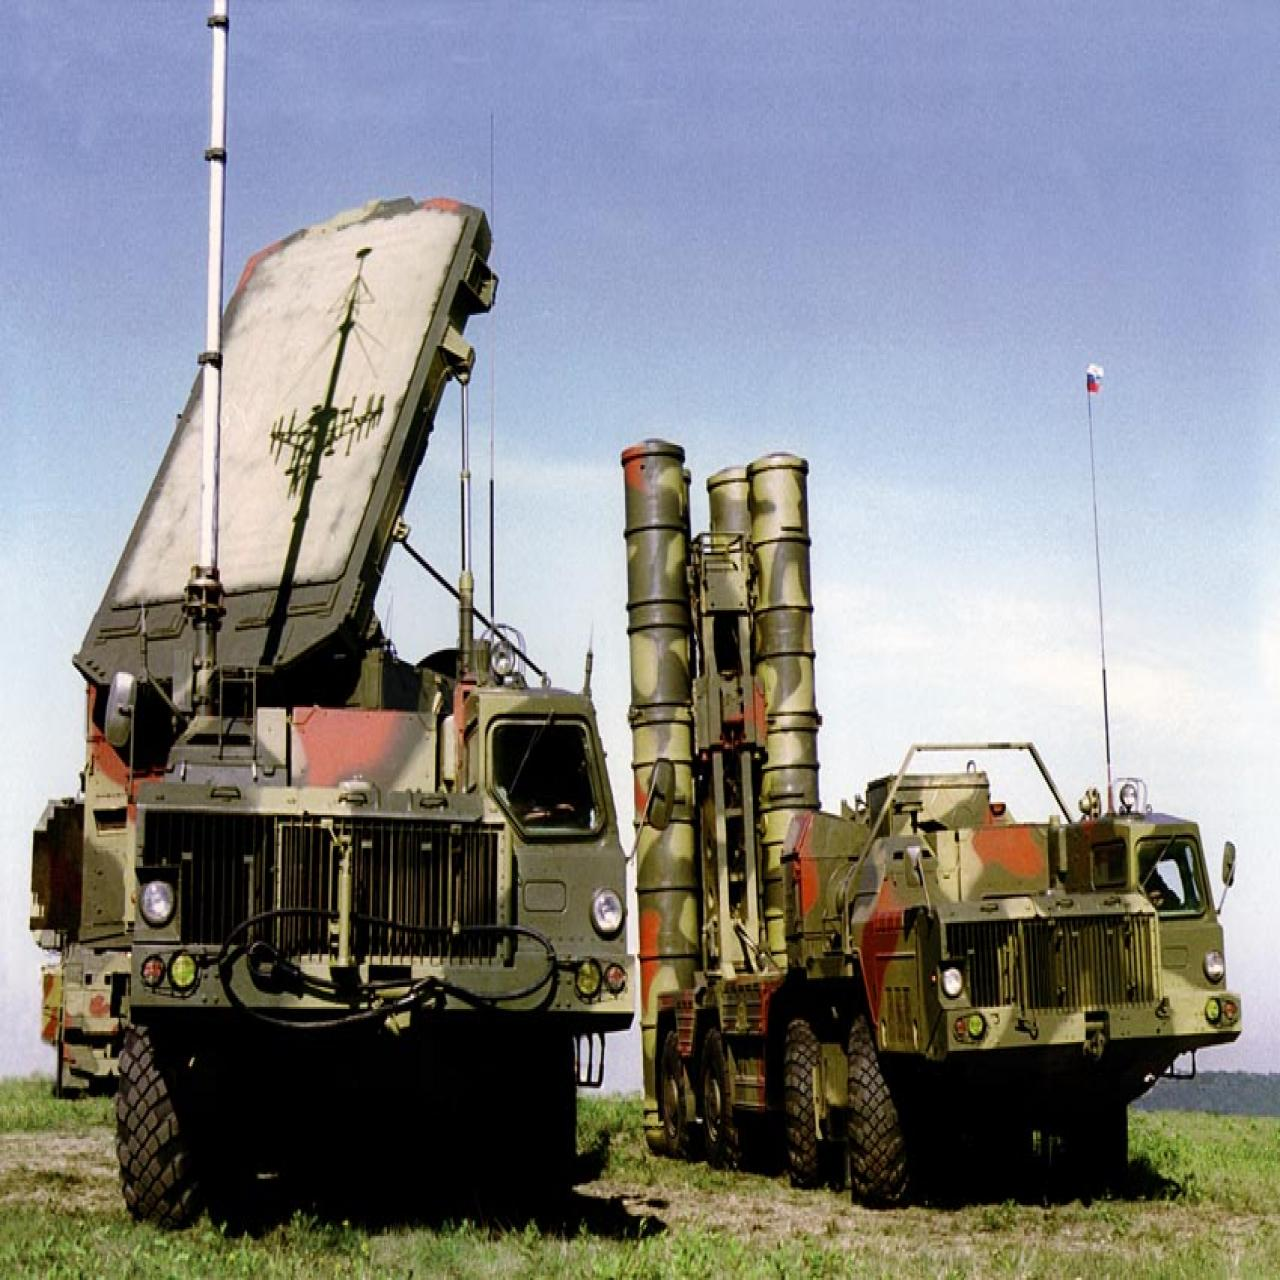MIL_Veh: (619, 437, 1235, 1190)
